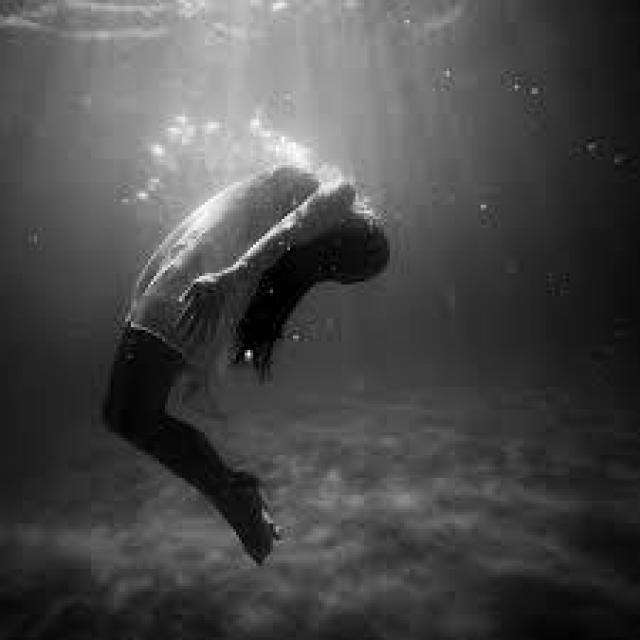Drowning: (112, 128, 419, 469)
